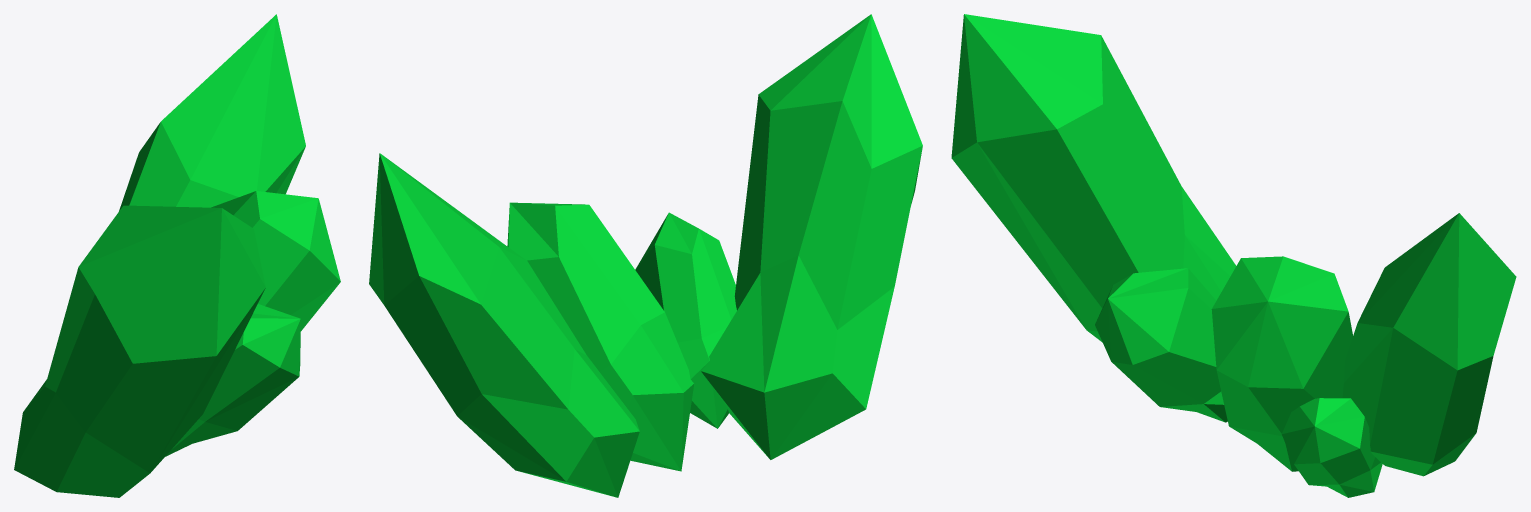
The model's file is ball crystal1.fbx.
3 views of the same model, side by side, from view 1: azimuth 30°, elevation 25°; view 2: azimuth 150°, elevation 25°; view 3: azimuth 270°, elevation 25° (orthographic). The views are drawn at different scales.
Visible parts, largest first — view 1: ball crystal1; view 2: ball crystal1; view 3: ball crystal1.
Part boxes in pixels (x1,y1,x2,y2): ball crystal1: [14, 14, 340, 497]; ball crystal1: [369, 14, 922, 497]; ball crystal1: [951, 14, 1516, 497].
Size of the model in its own units: 51.12 by 46.38 by 58.68.
